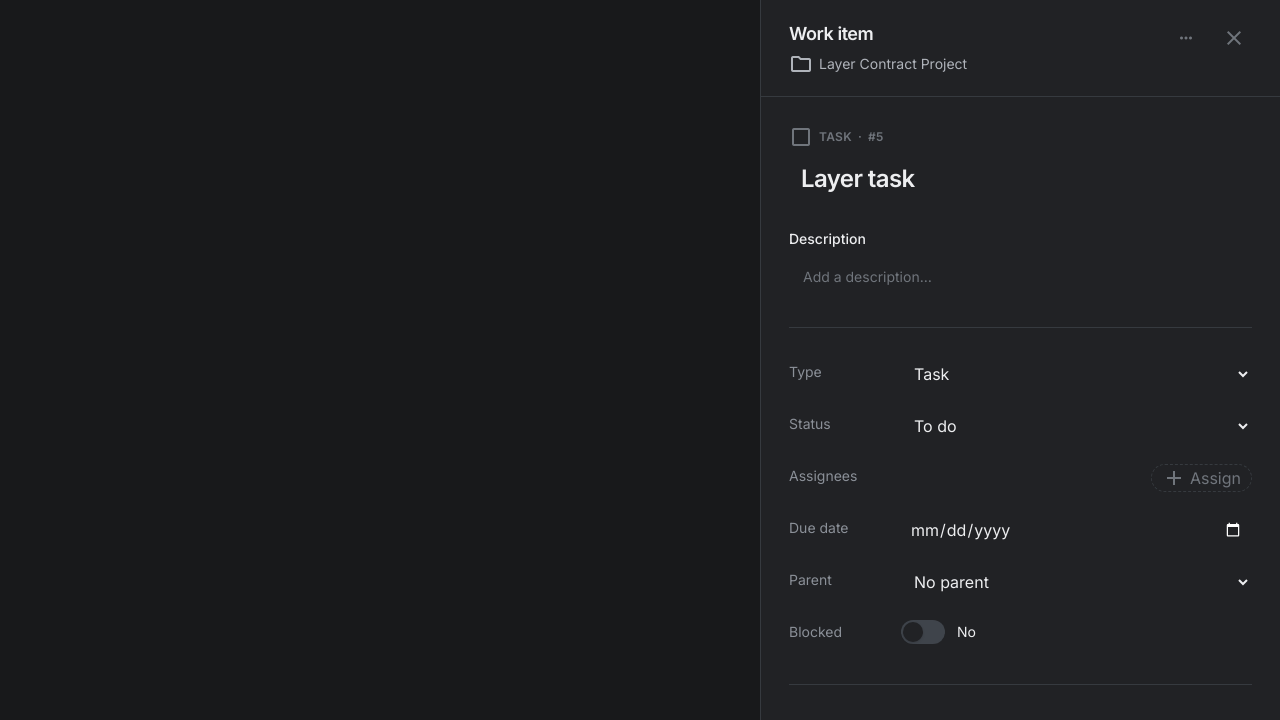
Test: Work Item overlay layer ownership › renders the standalone drawer delete overlay outside the inspector boundary and keeps the drawer open on Cancel
Click the button named "Work item actions".
click(1186, 38)  # box x1=1168 y1=20 x2=1204 y2=56
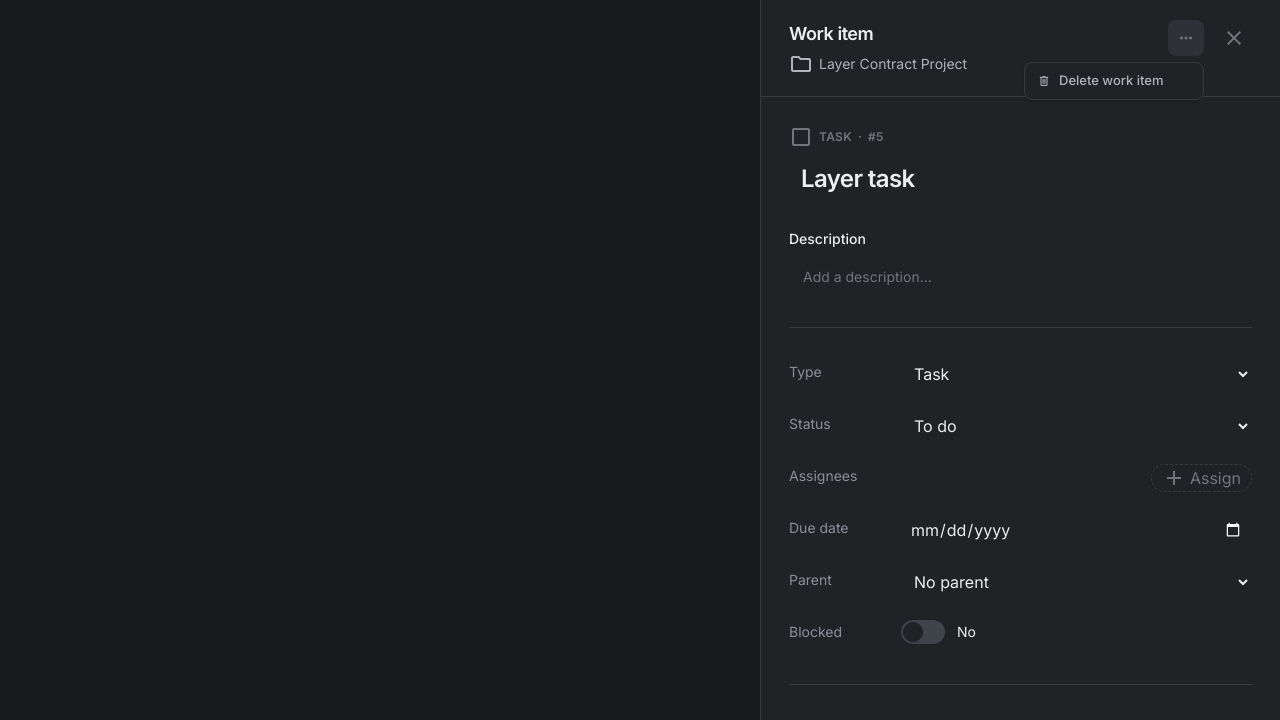
expect the menu item "Delete work item" is shown: met
Click the menu item "Delete work item".
click(1114, 81)  # box x1=1029 y1=67 x2=1199 y2=95
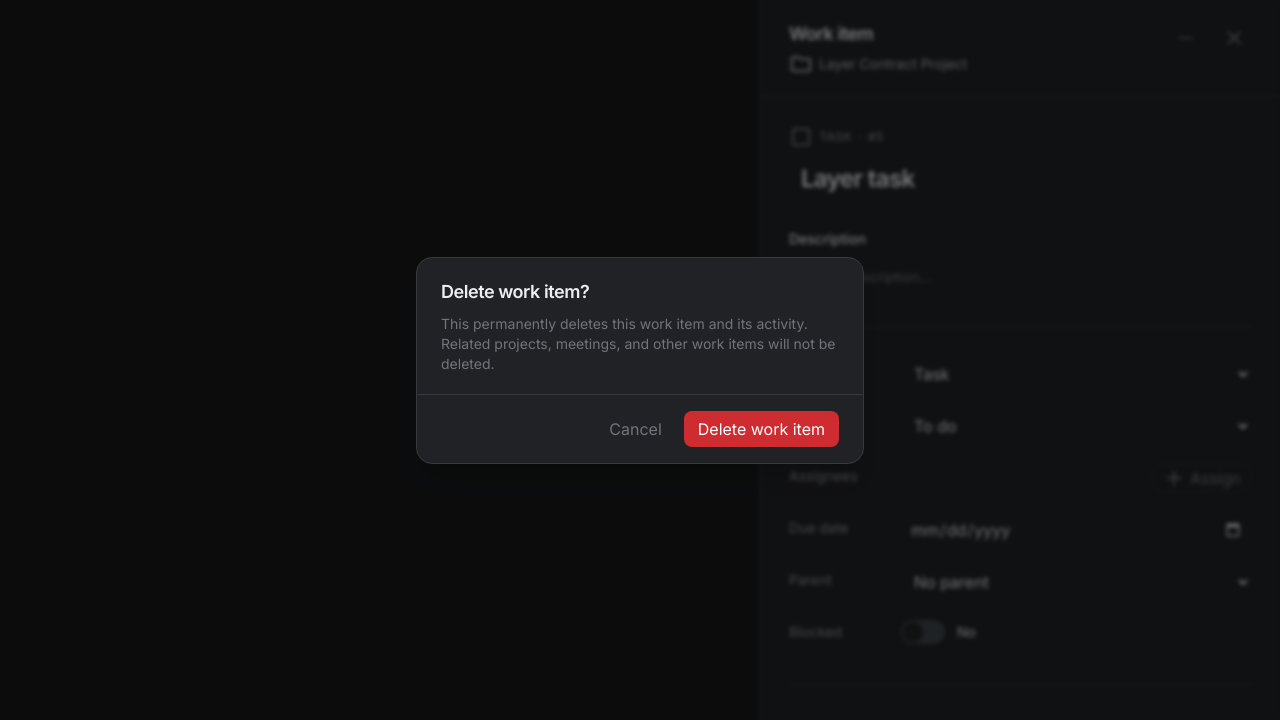
Click the button "Cancel".
click(636, 428)  # box x1=595 y1=410 x2=676 y2=446
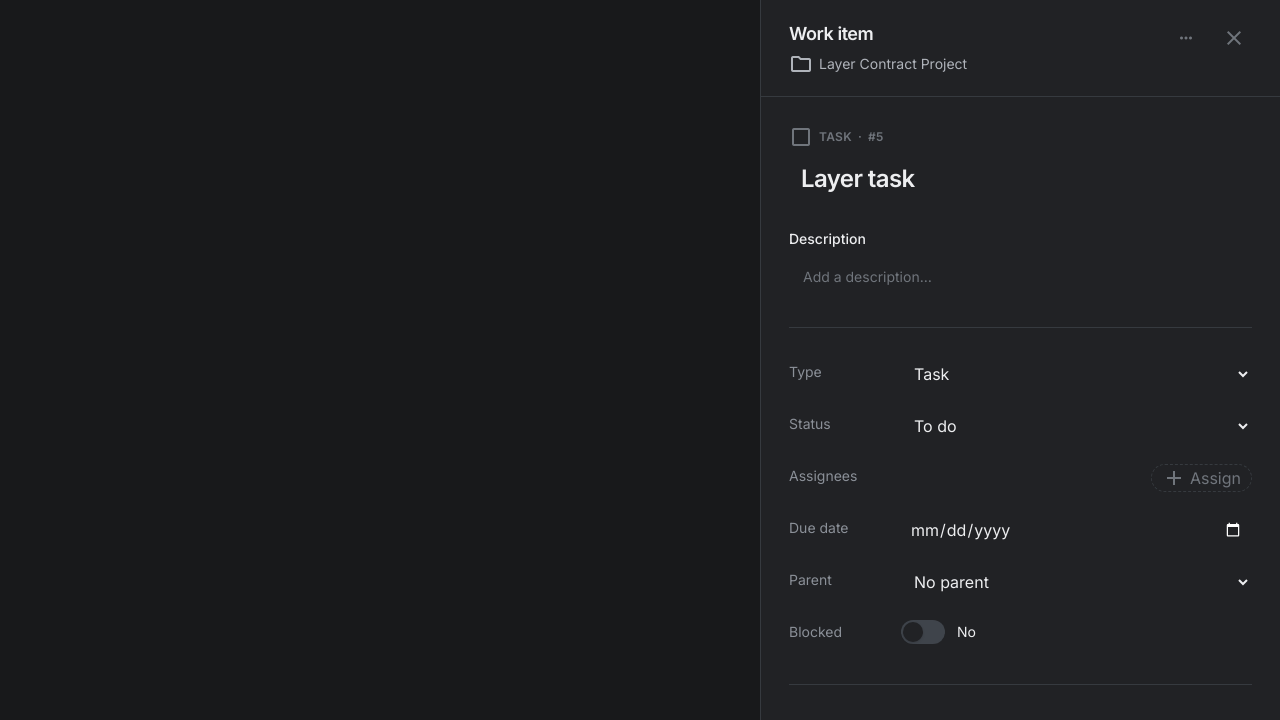
expect the heading "Delete work item?" is gone: met
